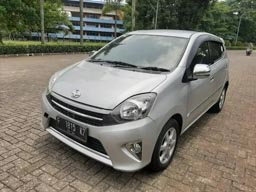plat: (56, 118, 88, 145)
